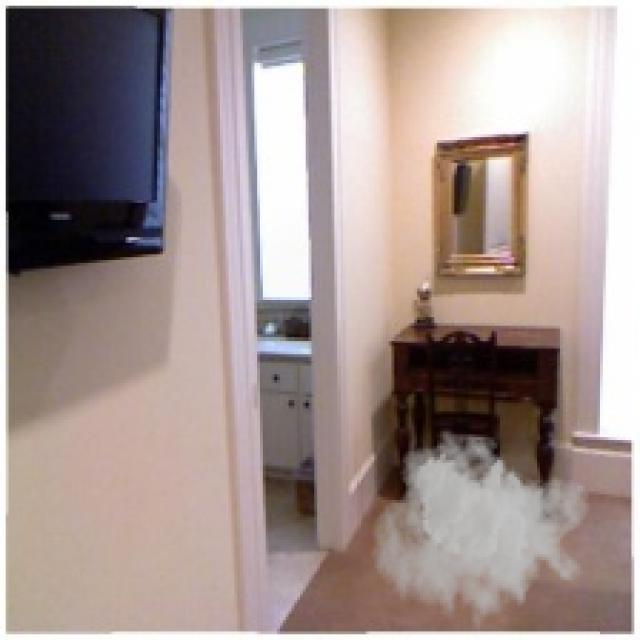Smoke: (372, 428, 594, 638)
